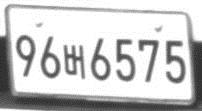5: (164, 39, 186, 84), (114, 38, 136, 82)
6: (89, 37, 111, 81), (39, 36, 61, 78)
7: (136, 38, 160, 82)
9: (16, 34, 36, 78)
버: (62, 44, 86, 80)
